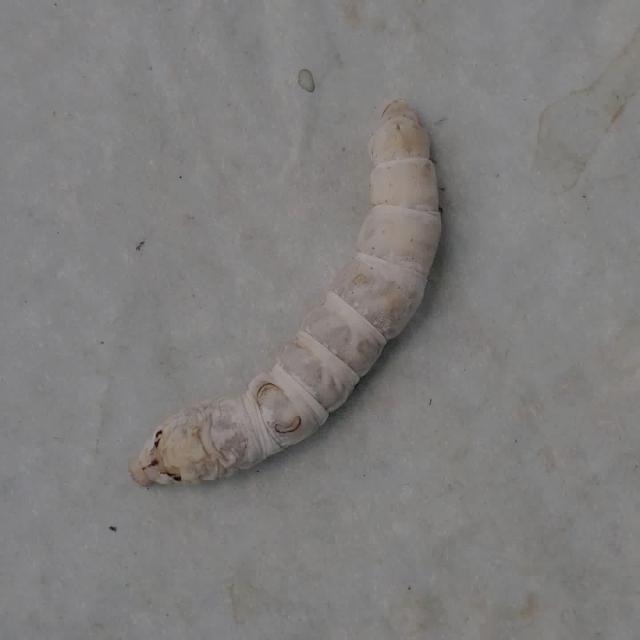Grasserie: (92, 75, 475, 518)
